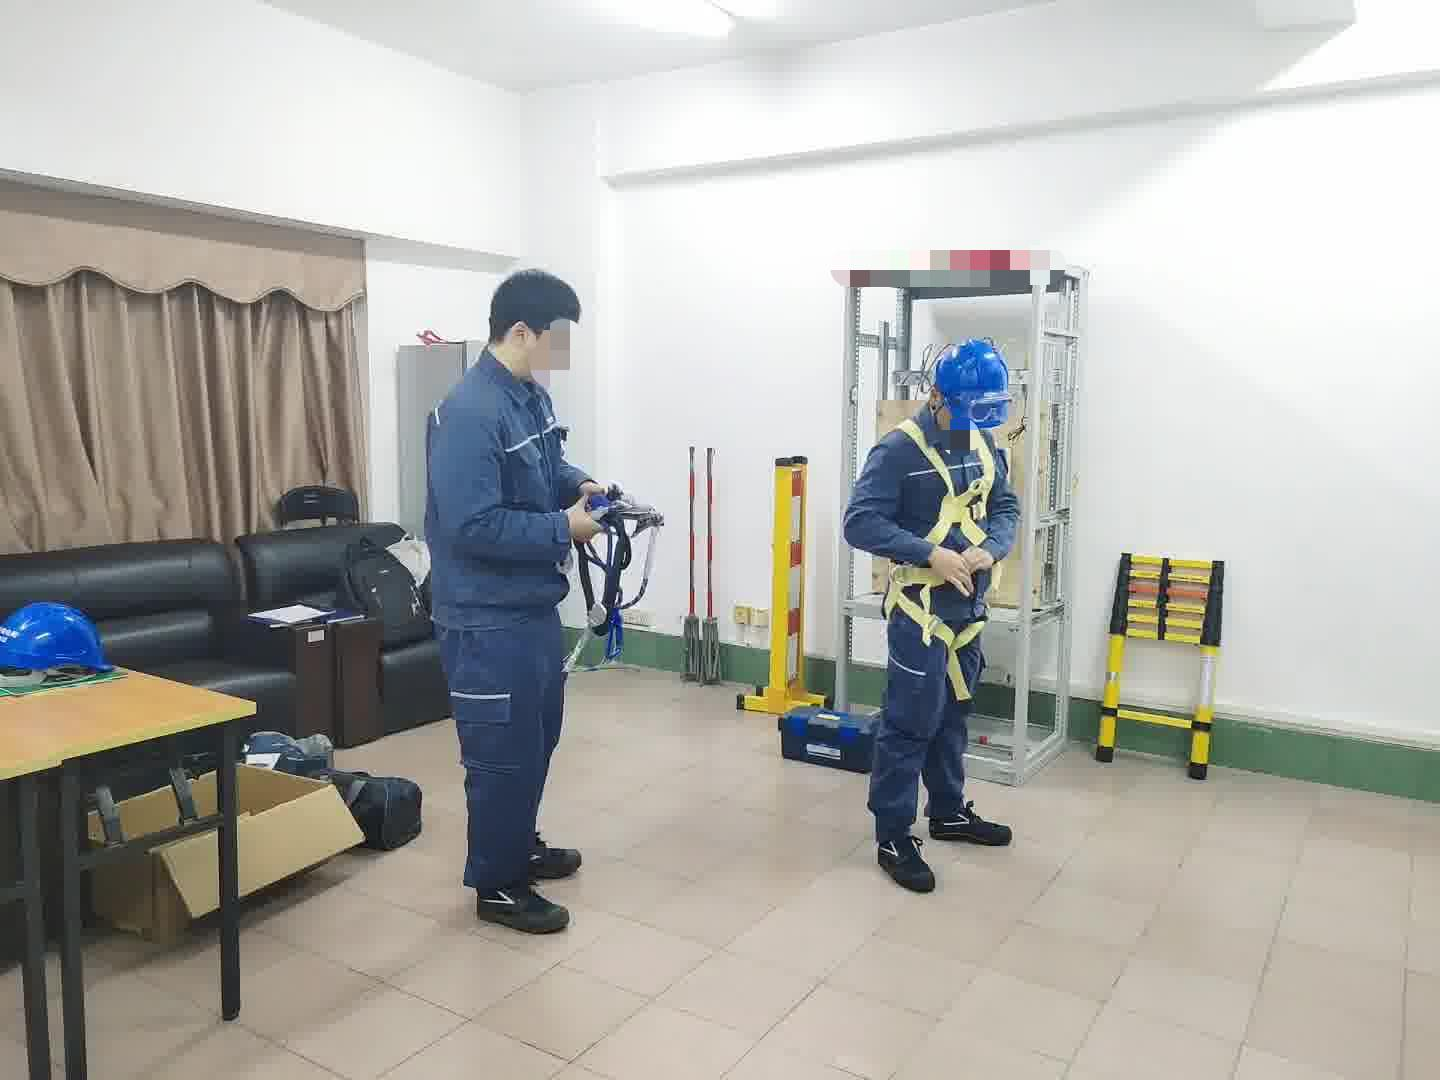halt: (932, 341, 1015, 439)
noear: (503, 317, 542, 358)
unhalt: (483, 275, 584, 381)
